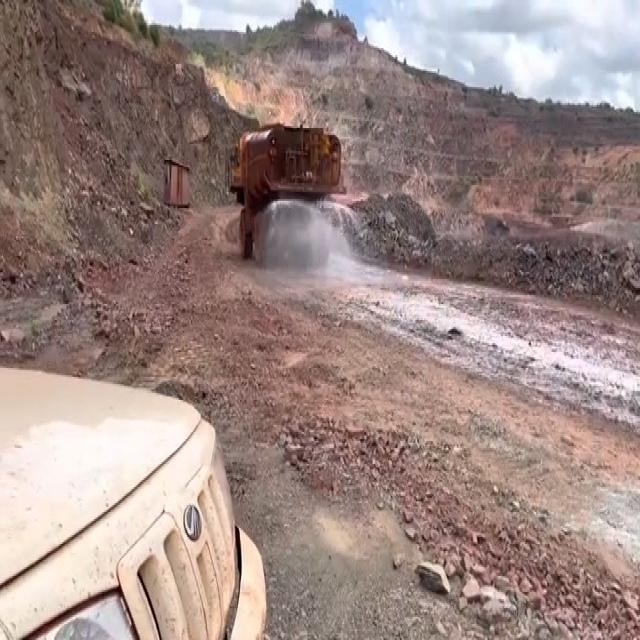dump_truck: (230, 124, 343, 267)
